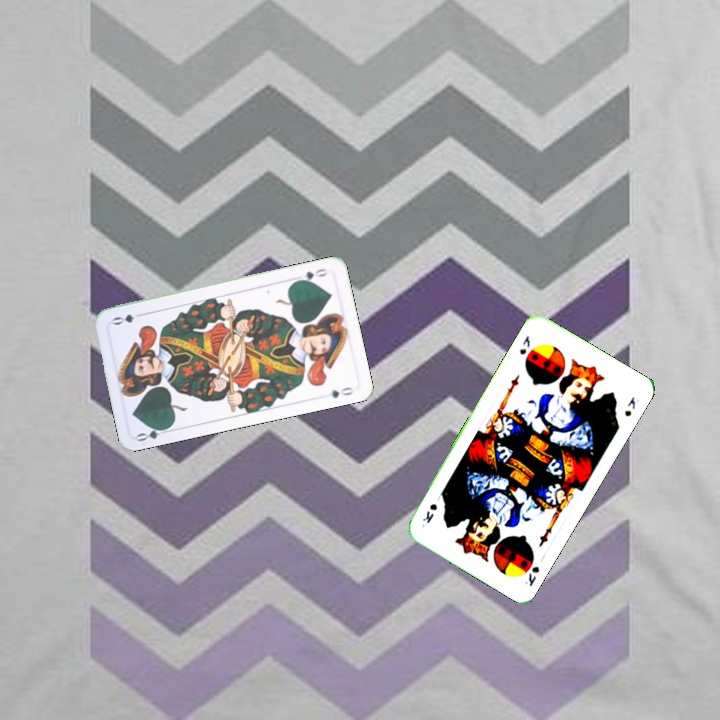GO: (133, 423, 173, 444), (292, 264, 330, 285)
SK: (521, 562, 542, 589), (515, 331, 533, 357)
